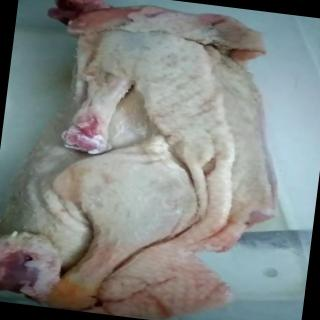Ayam: (1, 1, 301, 320)
